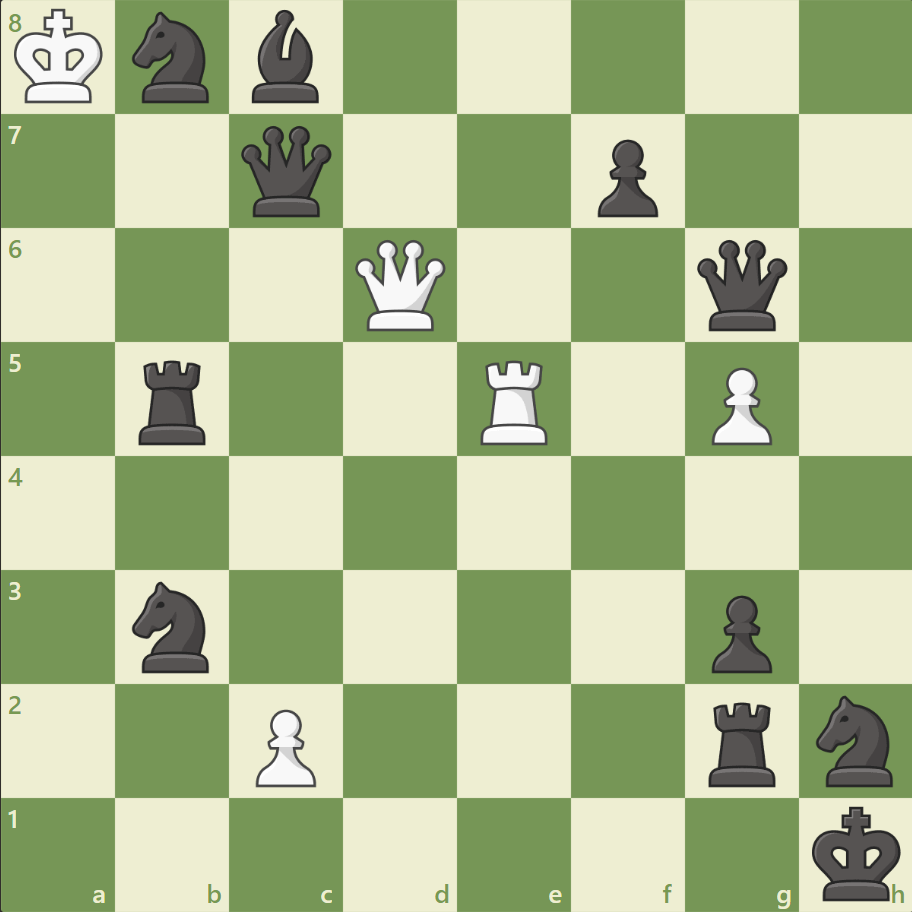K: (11, 4, 111, 112)
P: (701, 359, 776, 450), (247, 700, 322, 791)
Q: (351, 236, 450, 335)
R: (473, 352, 556, 449)
b: (244, 6, 328, 109)
k: (806, 798, 906, 906)
n: (124, 7, 222, 110), (124, 575, 222, 677), (806, 688, 903, 791)
p: (701, 586, 776, 677), (588, 132, 662, 223)
q: (237, 122, 336, 222), (691, 236, 790, 335)
r: (700, 693, 783, 790), (133, 352, 215, 449)
